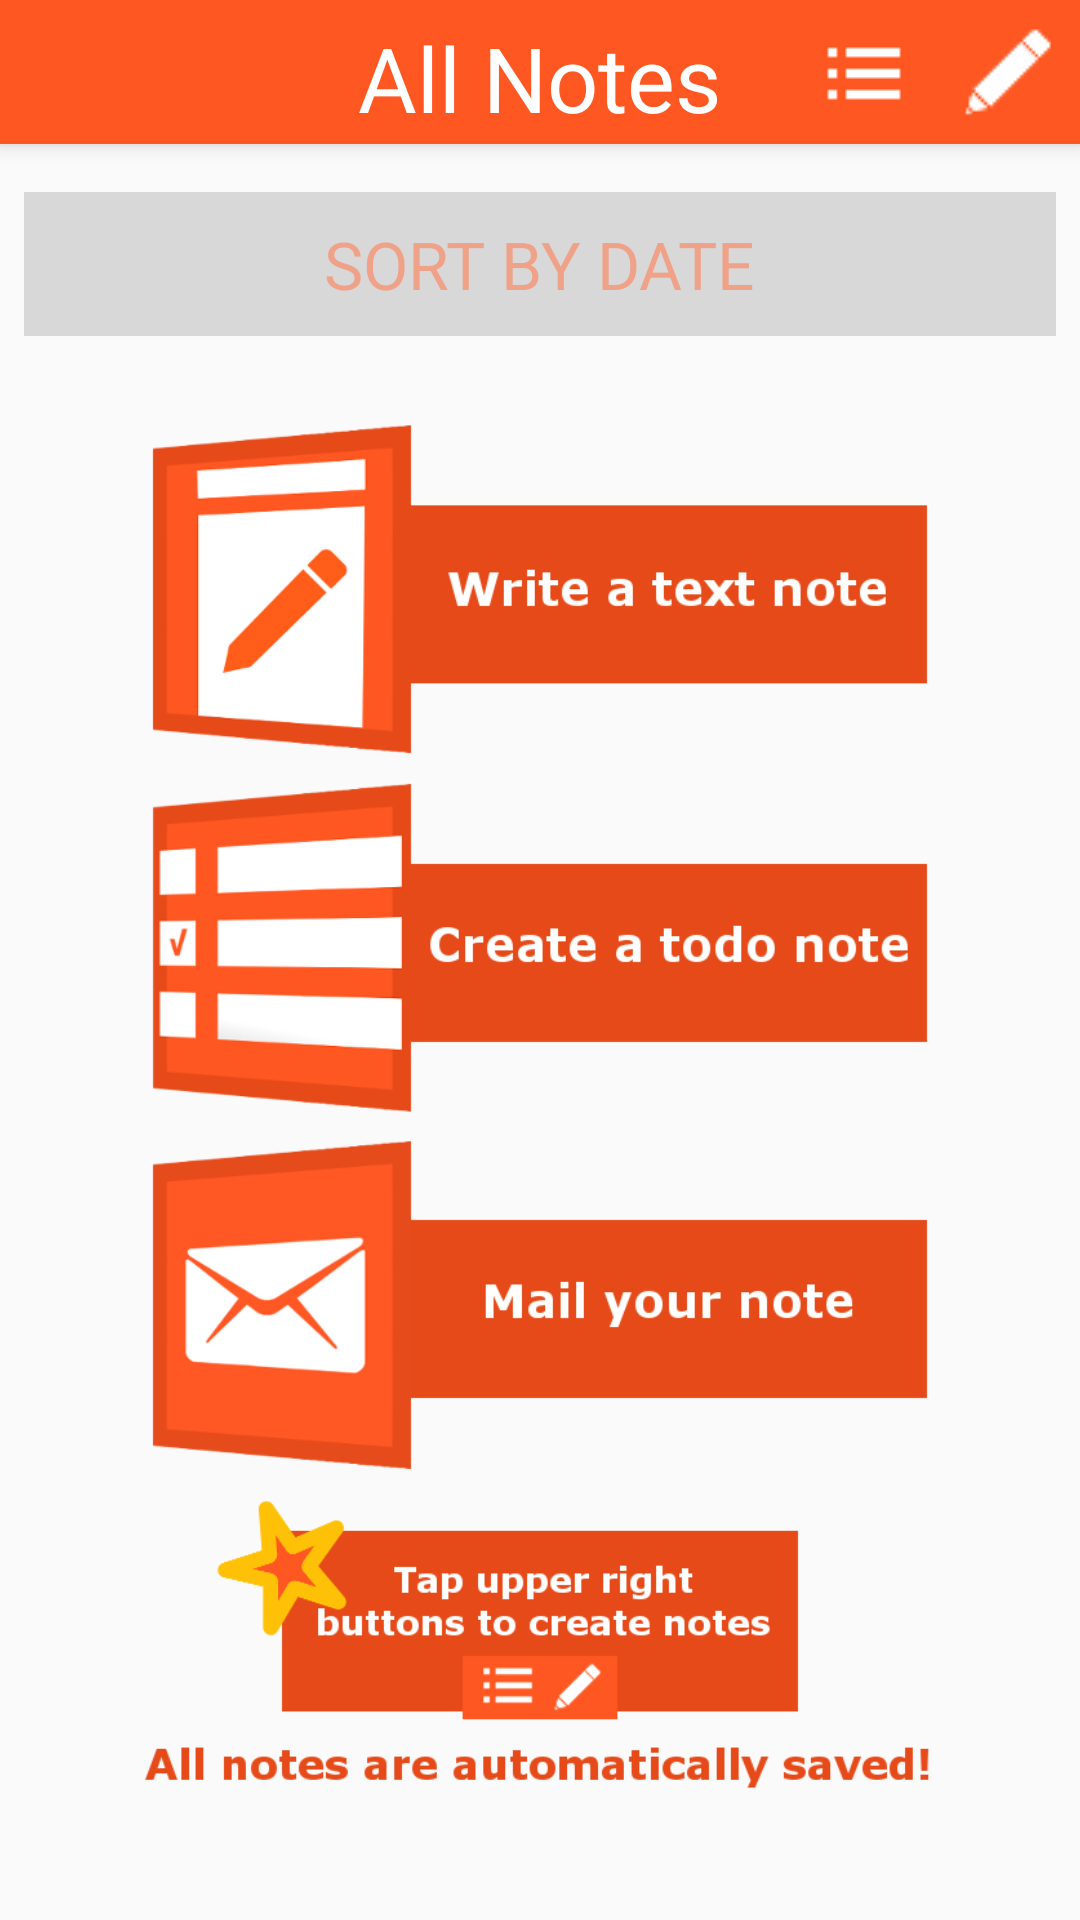

Icons on this 1080px x 1920px Android screen, each with the point to tap as [x,y]:
newnote: [1008,72]
newtodo: [864,73]
